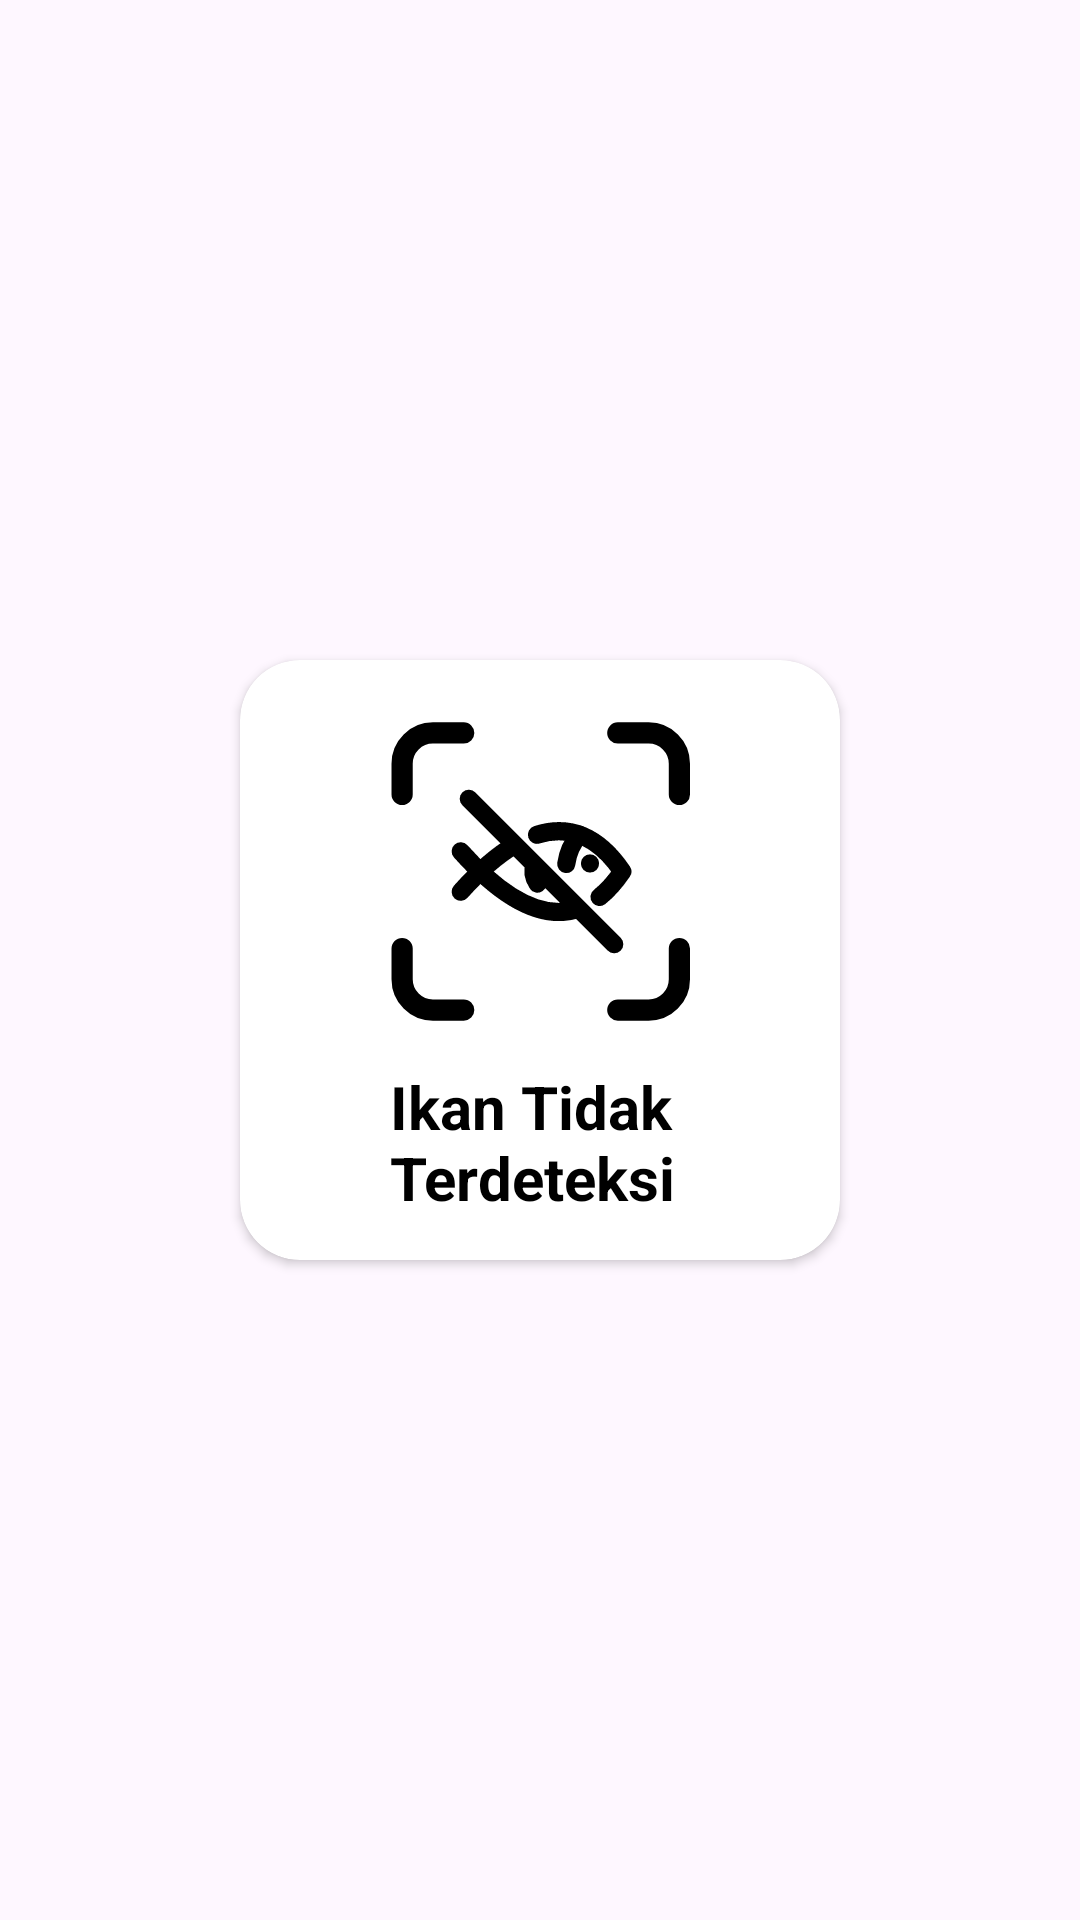

Where to tap for icons on this 1080px×1920px app screen, as point (x, y):
nodetection scan: point (540, 871)
